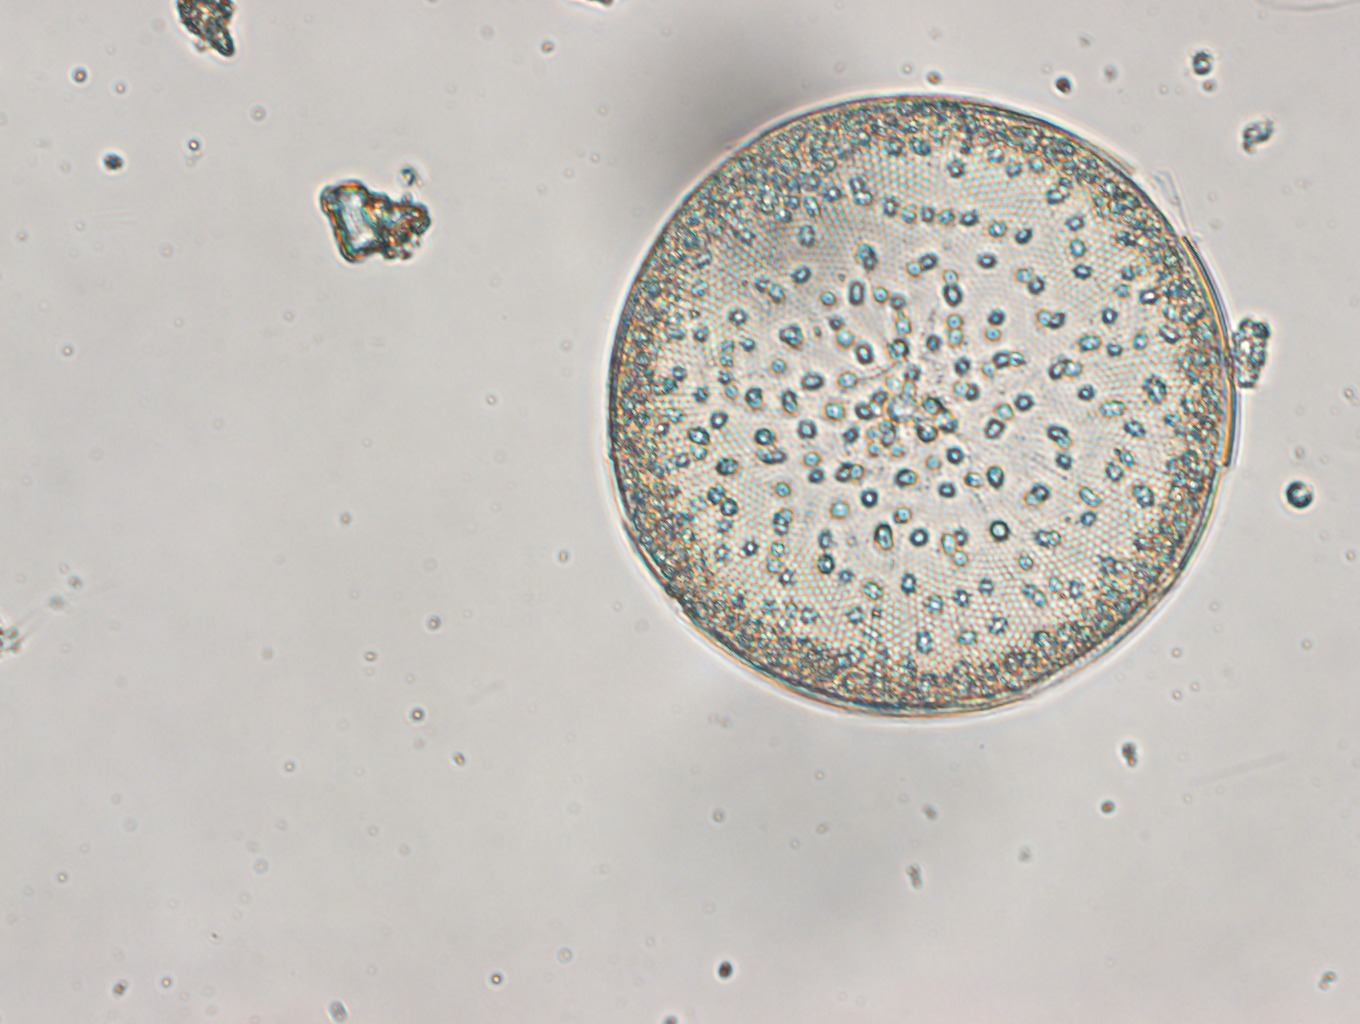coscinodiscus: (606, 90, 1239, 723)
